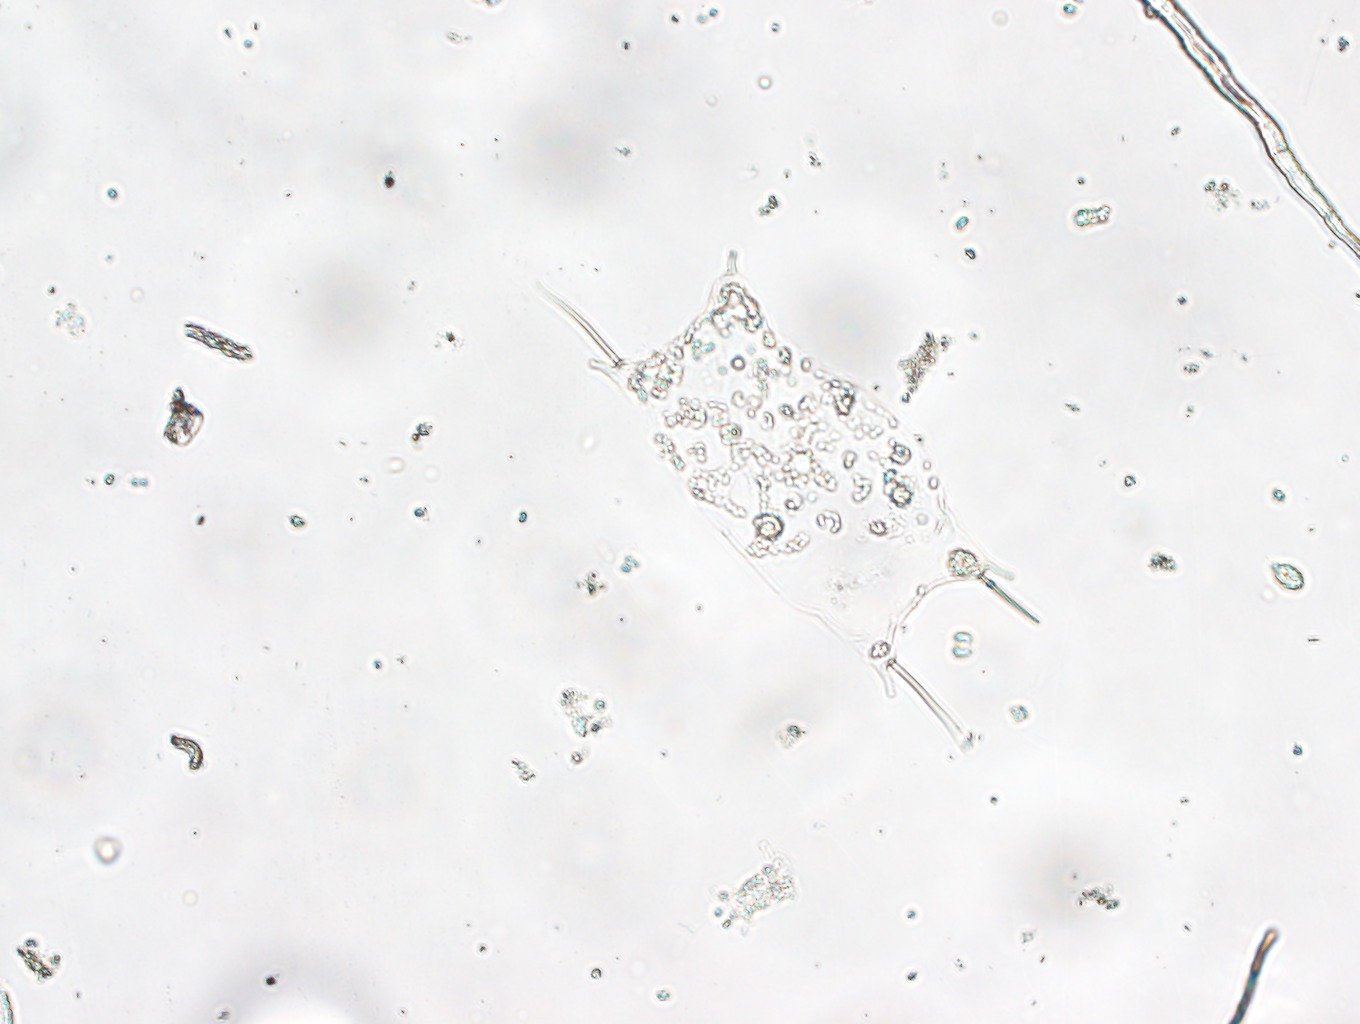biddulphia: (539, 258, 1043, 746)
